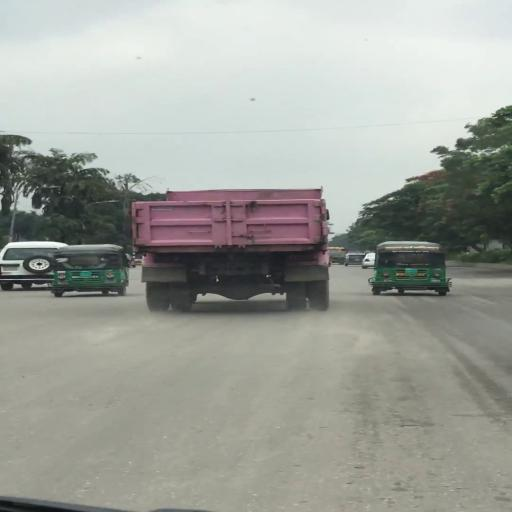car: (363, 254, 374, 269)
suv: (1, 242, 56, 292), (346, 254, 364, 266)
three wheelers (CNG): (369, 242, 456, 300), (51, 244, 132, 299)
truck: (129, 186, 341, 315)
